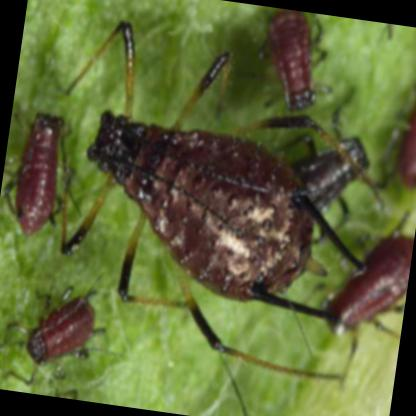uroleucon compositae: (56, 29, 367, 314)
